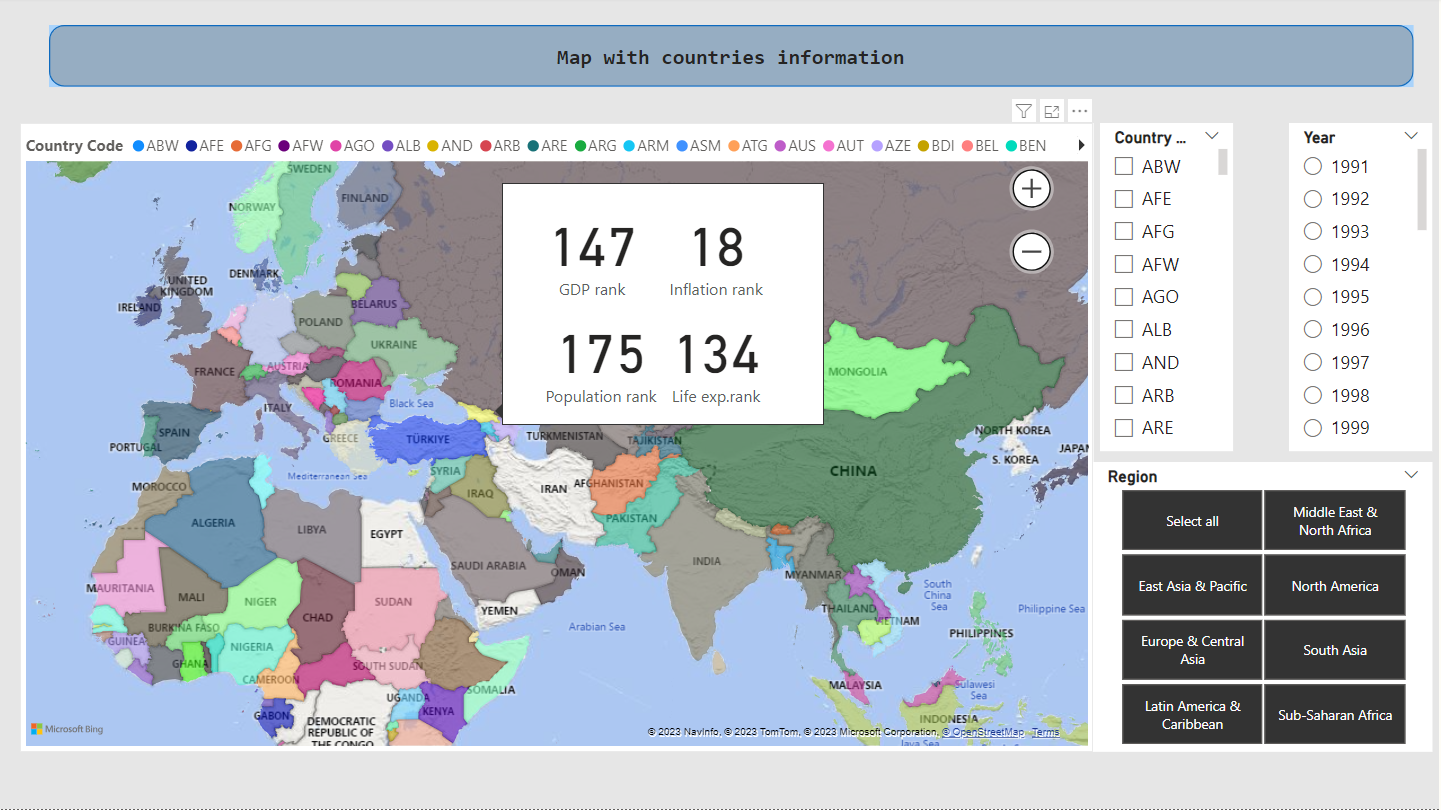

What the dashboard file says about the page in this screenshot:
{"tool":"powerbi","page":{"name":"Map","canvas":[1280,720],"ordinal":2},"visuals":[{"type":"filledMap","fields":{"Category":["Metadata - Countries.Country name"],"Series":["Metadata - Countries.Country Code"]},"box":[19.5,112.1,951.9,557.2],"z":0},{"type":"slicer","fields":{"Values":["Metadata - Countries.Country Code"]},"box":[977.3,111.8,118.2,290.9],"z":1000},{"type":"slicer","fields":{"Values":["Year.Year"]},"box":[1144.5,111.8,127.3,290.9],"z":2000},{"type":"shape","box":[45.5,24.5,1210,54.5],"z":3000},{"type":"slicer","fields":{"Values":["Metadata - Countries.Region"]},"box":[970.9,412.7,300.9,257.3],"z":4000},{"type":"textbox","box":[158.2,37.3,983.6,34.5],"z":5000}]}

Visuals, with their boxes on the page's 1280x720 design canvas (x1, y1, x2, y2). These are canvas units, not pixel positions in the 1441x810 screenshot, which may show the page scaled, cropped or inside an application window:
filledMap - Metadata - Countries.Country name x Metadata - Countries.Country Code: 20, 112, 971, 669
slicer - Metadata - Countries.Country Code: 977, 112, 1096, 403
slicer - Year.Year: 1144, 112, 1272, 403
shape: 46, 24, 1256, 79
slicer - Metadata - Countries.Region: 971, 413, 1272, 670
textbox: 158, 37, 1142, 72
